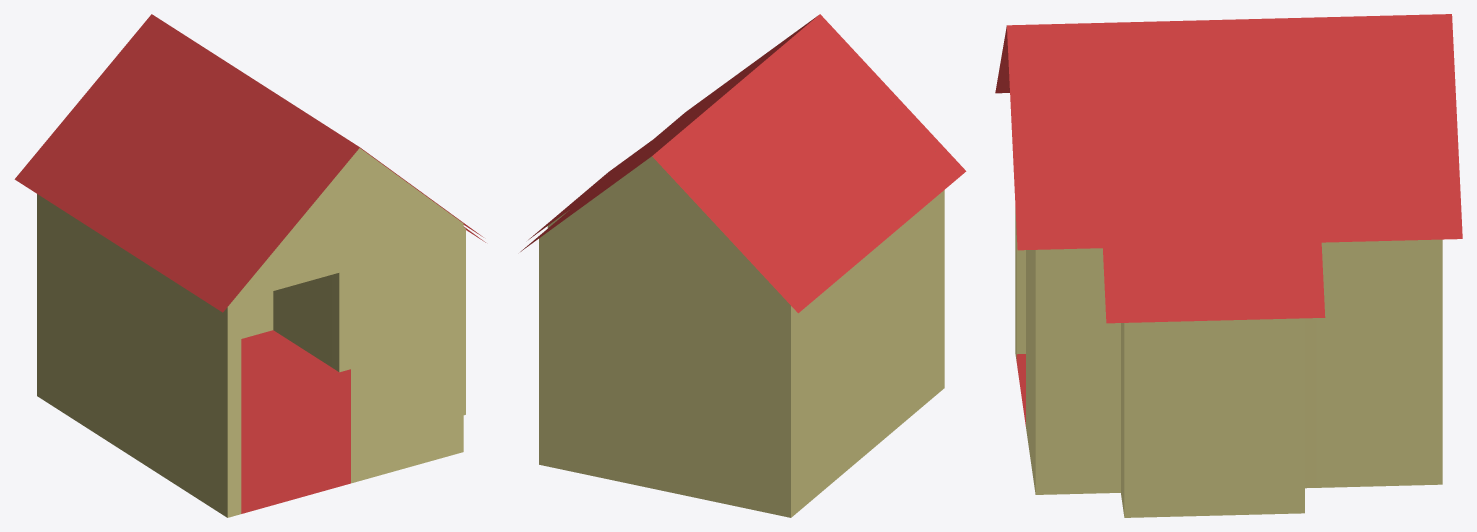
3 views of the same model, side by side, from view 1: azimuth 30°, elevation 25°; view 2: azimuth 150°, elevation 25°; view 3: azimuth 270°, elevation 25° (orthographic). The views are drawn at different scales.
Size of the model in its own units: 11.81 by 12.2 by 11.6.
